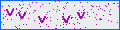v: (17, 11, 28, 20), (61, 15, 71, 24), (5, 8, 14, 16), (37, 15, 46, 23), (76, 12, 86, 19)
